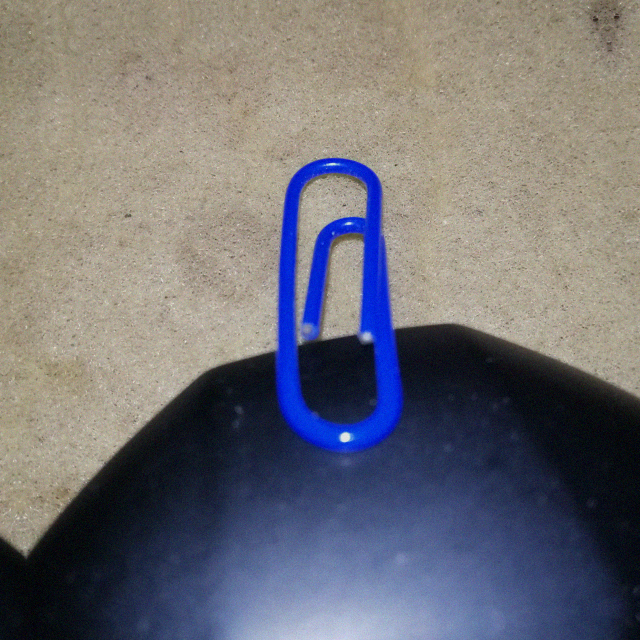pin: (254, 145, 411, 453)
